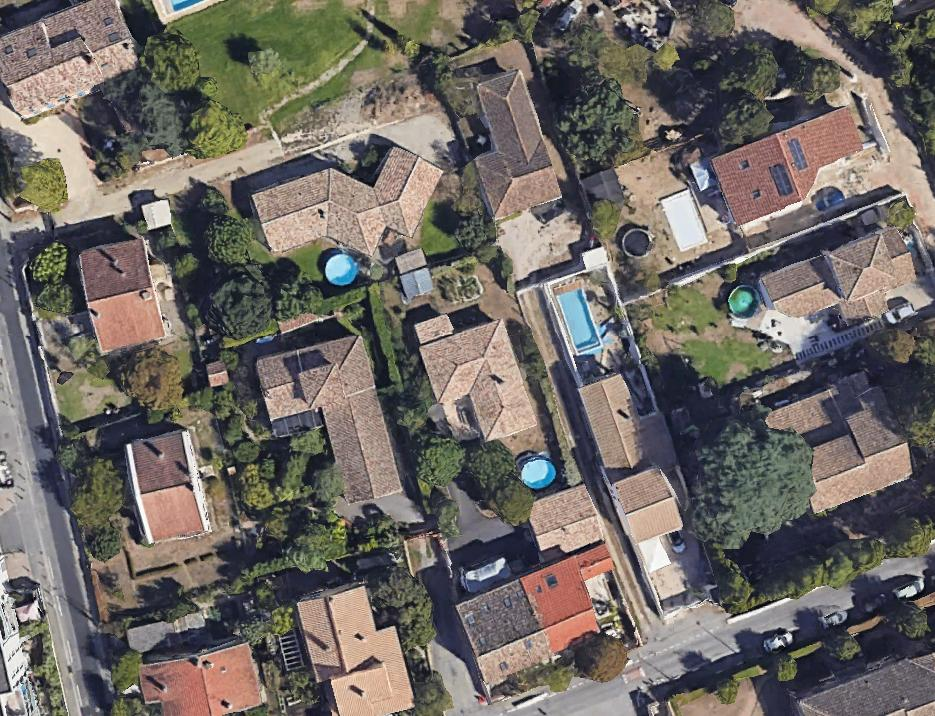maison: (248, 136, 458, 281), (254, 332, 402, 519), (763, 365, 921, 521), (575, 367, 697, 547), (755, 224, 926, 351), (708, 106, 874, 230), (410, 296, 539, 453), (448, 67, 562, 221), (293, 579, 413, 716), (0, 0, 137, 117), (511, 527, 636, 654), (119, 427, 213, 548), (73, 236, 168, 355), (452, 577, 555, 685), (136, 641, 261, 716), (797, 653, 934, 715), (521, 480, 608, 563)
